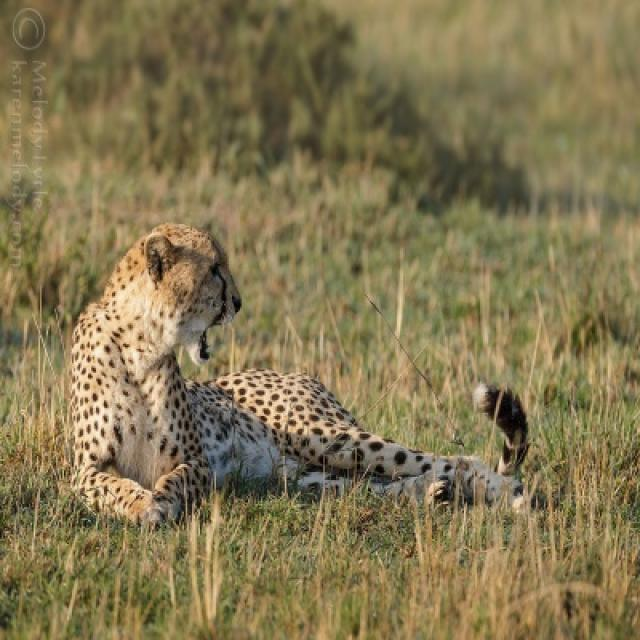Cheetah: (72, 224, 525, 525)
